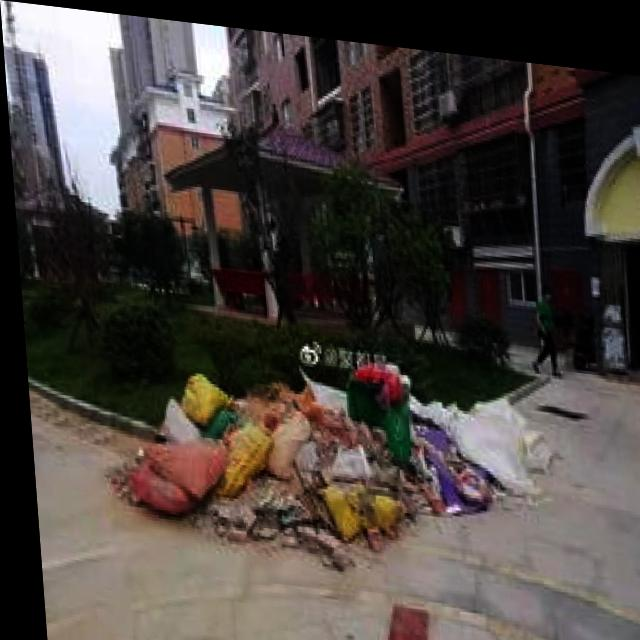garbage: (96, 343, 551, 582)
overflow: (338, 346, 407, 456)
